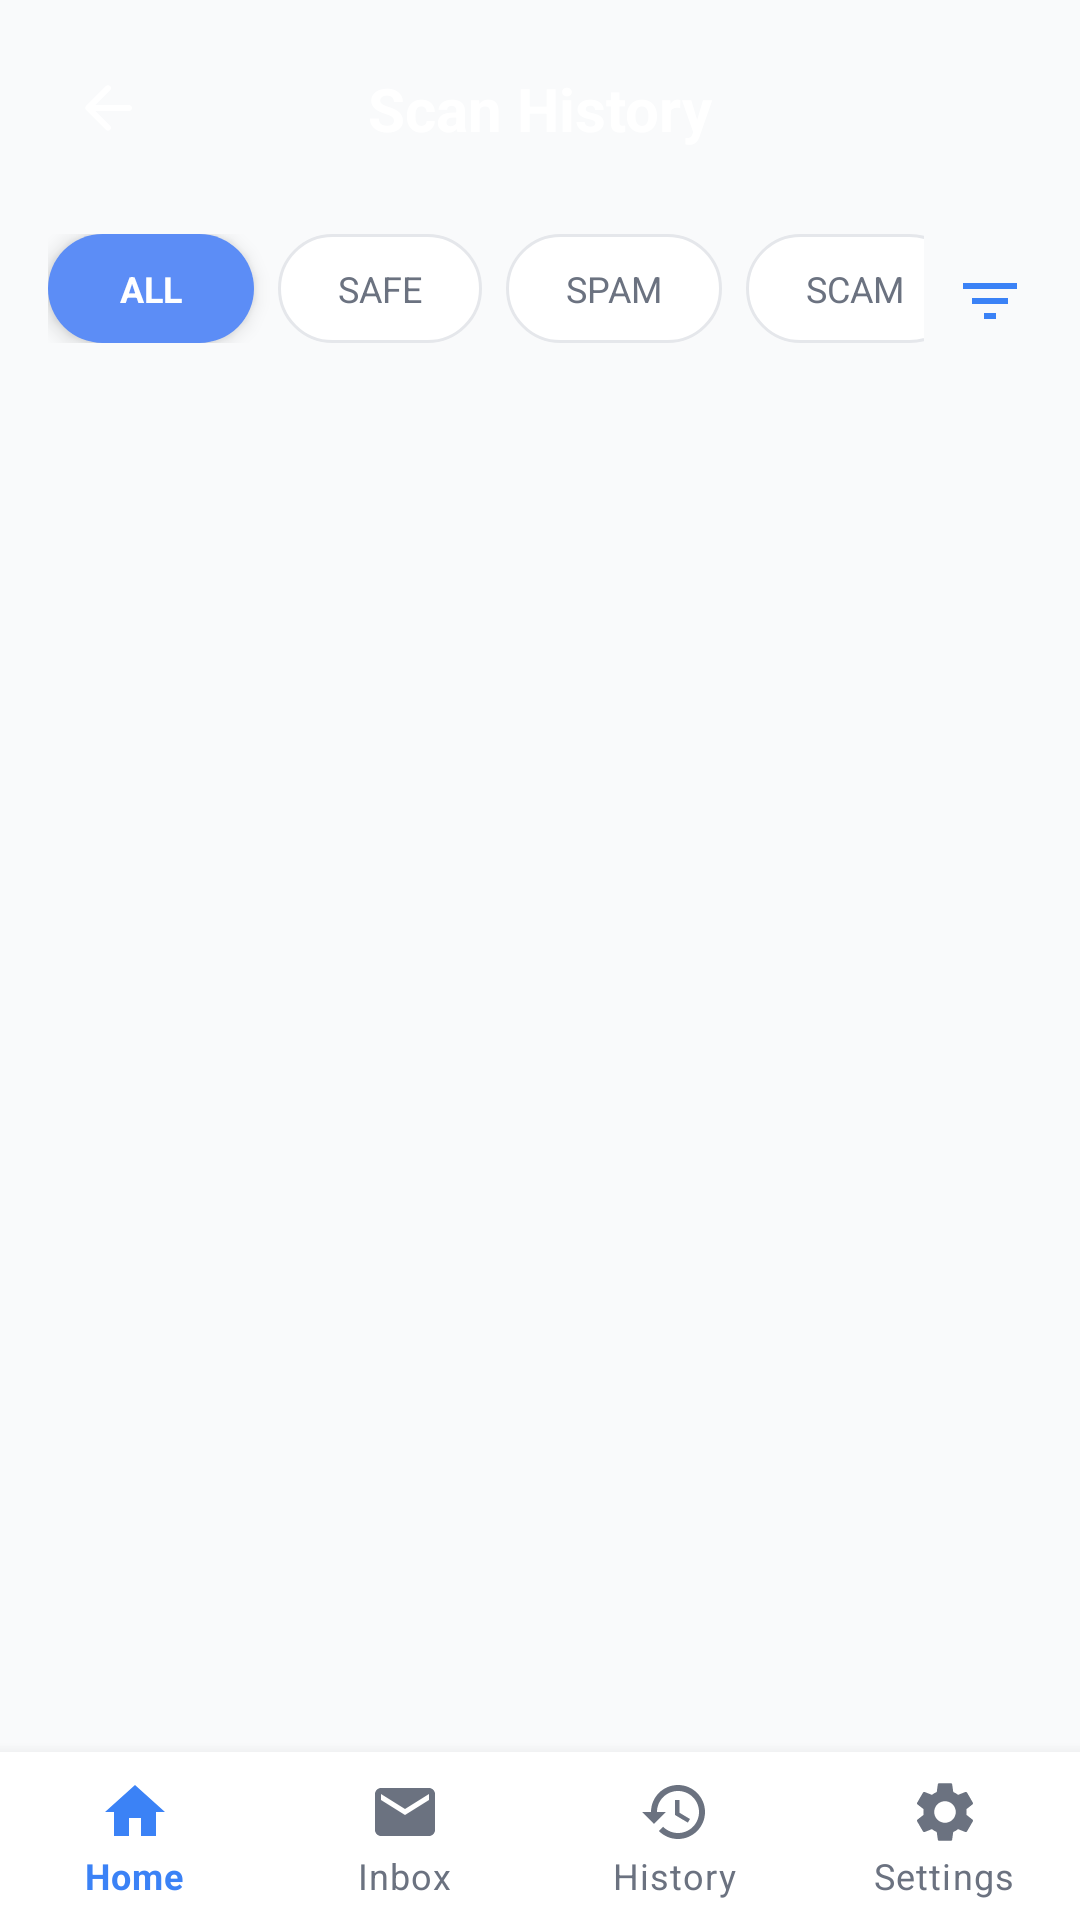

Screen size 1080px x 1920px. Icon name, then its box in pixels as (x1, y1, x2, y2):
Filter Source: (963, 283, 1017, 319)
